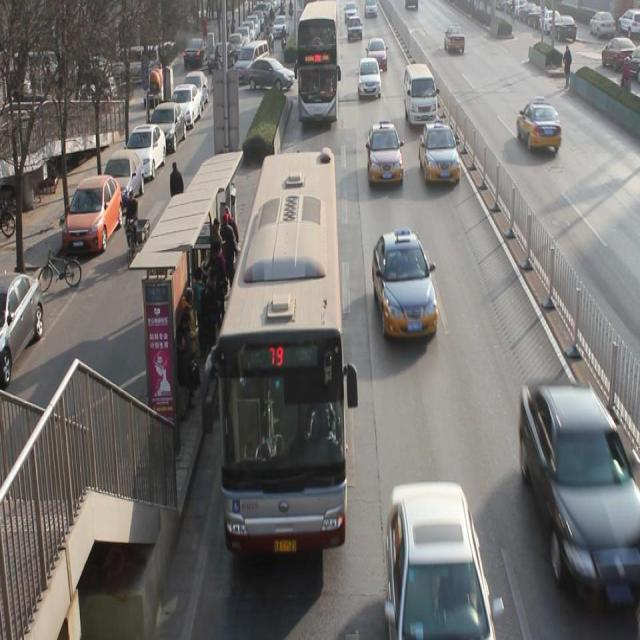car: (521, 380, 640, 604), (389, 488, 498, 630), (372, 237, 439, 341), (420, 125, 462, 190), (516, 101, 564, 157), (367, 124, 404, 188), (358, 59, 382, 97), (366, 40, 388, 70), (445, 24, 466, 55), (348, 18, 363, 40)
truck: (405, 67, 439, 130)
van: (218, 150, 345, 558), (300, 1, 340, 129)
